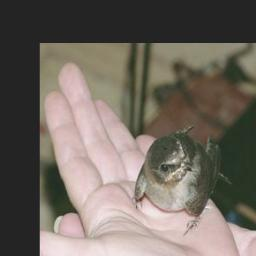Swallow: (132, 122, 235, 239)
